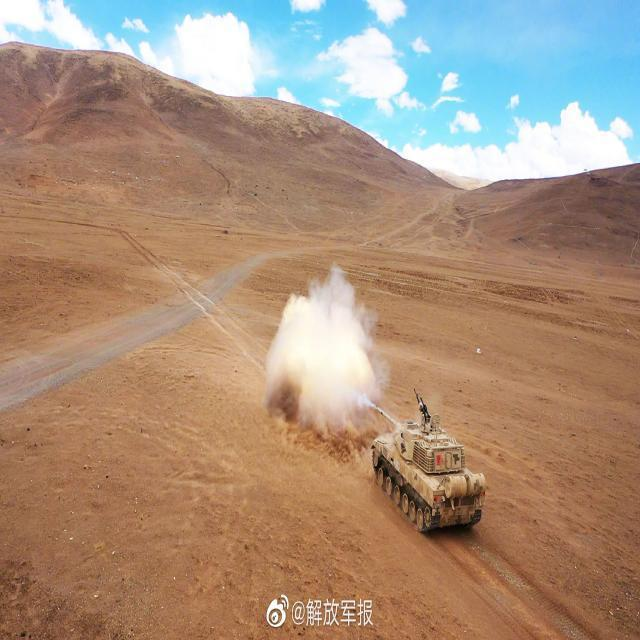Tanks: (371, 388, 488, 534)
